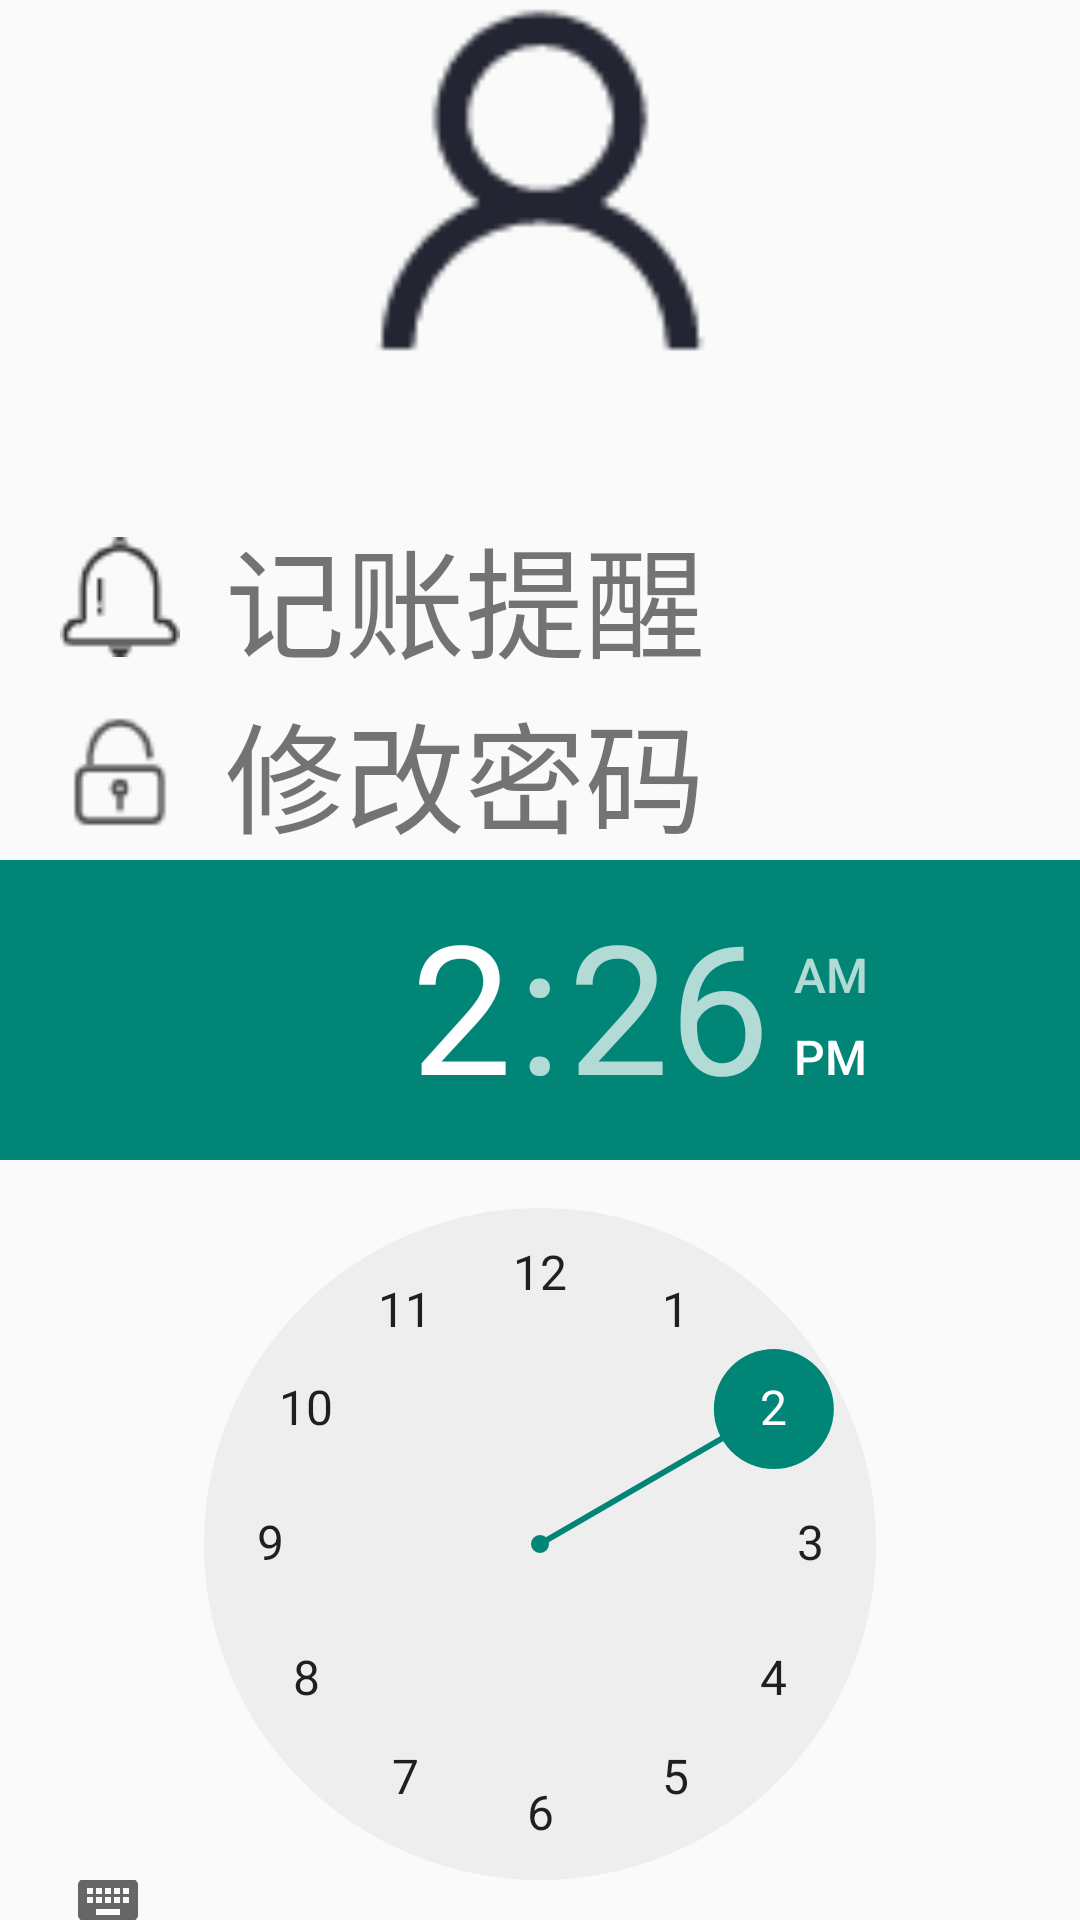

Where to tap for icons on this 1080w x 1920h app screen, as point (x, y):
person: point (541, 180)
tixing: point (120, 597)
